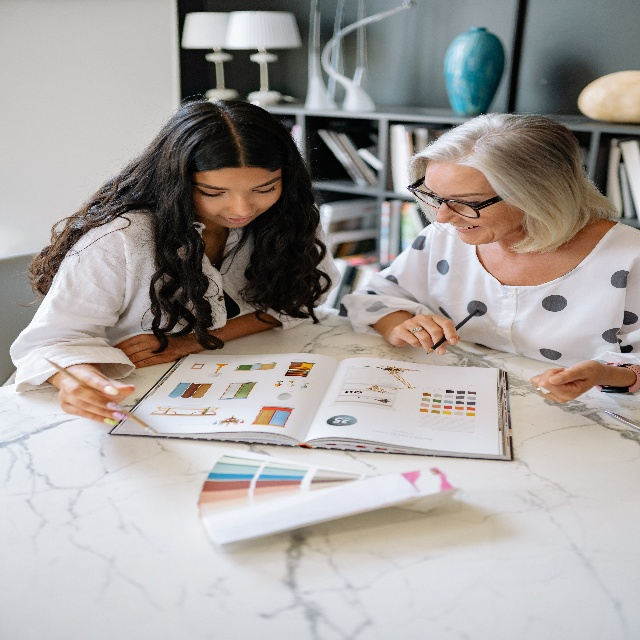Gafas: (405, 175, 504, 221)
Sin_guantes: (60, 362, 136, 429), (116, 327, 201, 372), (529, 360, 607, 405), (388, 314, 460, 357)
